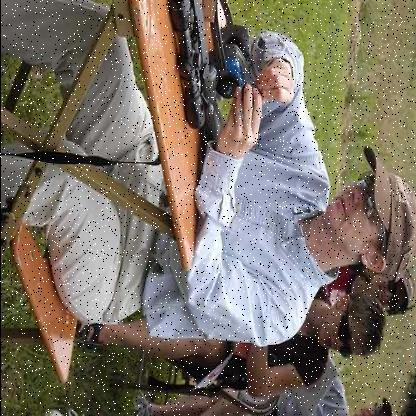rifle: (160, 0, 255, 191)
